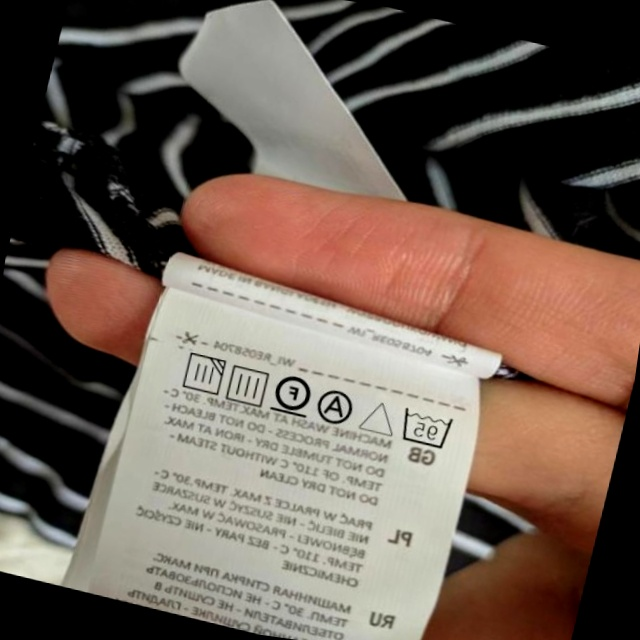95C: (394, 403, 457, 452)
bleach: (358, 393, 400, 441)
drip_dry: (222, 360, 273, 410)
drip_dry_in_shade: (175, 347, 228, 400)
dry_clean: (314, 385, 359, 429)
dry_clean_petrol_only: (269, 367, 316, 420)
